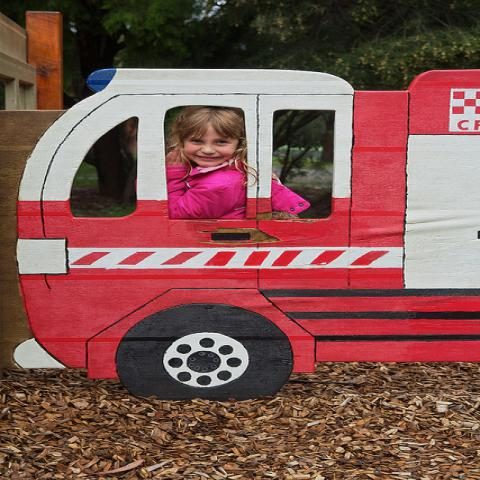truck: (12, 67, 479, 401)
